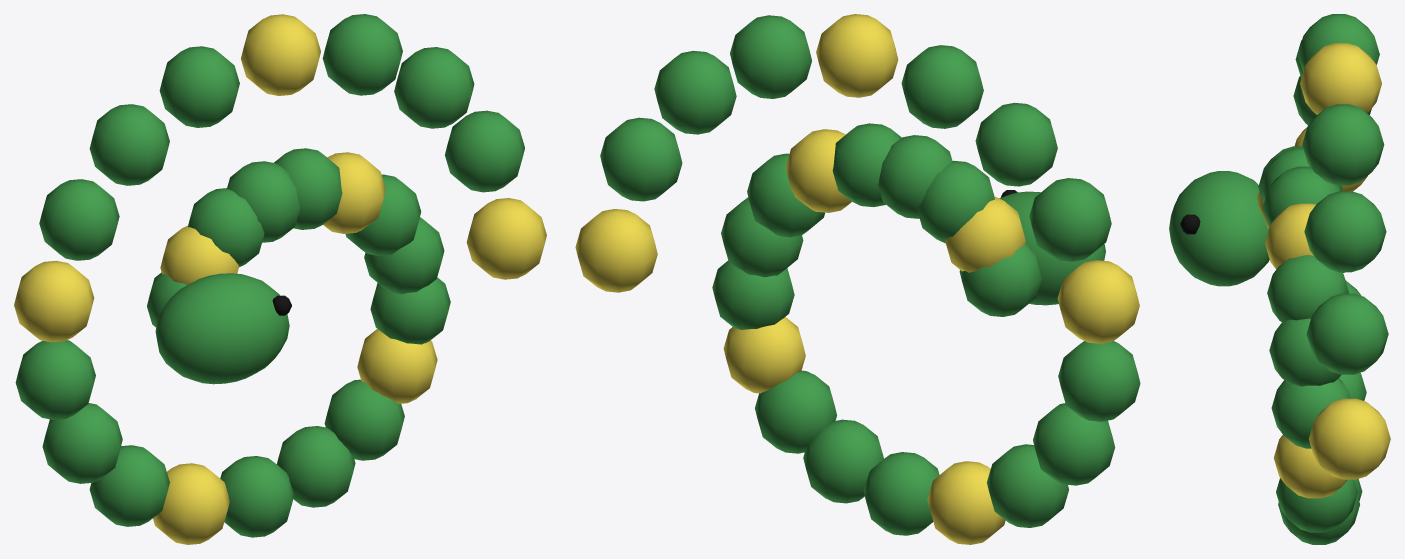
File: cobra.glb
The picture shows the model from 3 angles, left to right: view 1: azimuth 30°, elevation 25°; view 2: azimuth 150°, elevation 25°; view 3: azimuth 270°, elevation 25°; orthographic projection. The views are drawn at different scales.
Parts seen in each view (by area): view 1: cobra; view 2: cobra; view 3: cobra.
Boxes of the visible parts, bbox=[...] form: cobra: bbox=[14, 14, 546, 544]; cobra: bbox=[575, 14, 1140, 544]; cobra: bbox=[1169, 14, 1390, 544].
Size of the model in its own units: 2.01 by 1.81 by 0.729.
